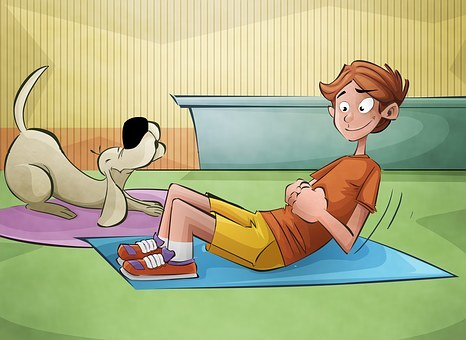dog: (5, 64, 164, 228)
person: (106, 58, 406, 281)
